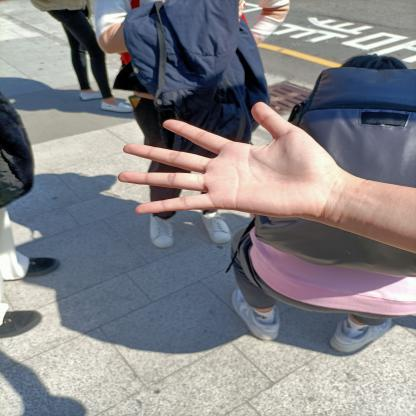bare_hand: (107, 86, 354, 235)
